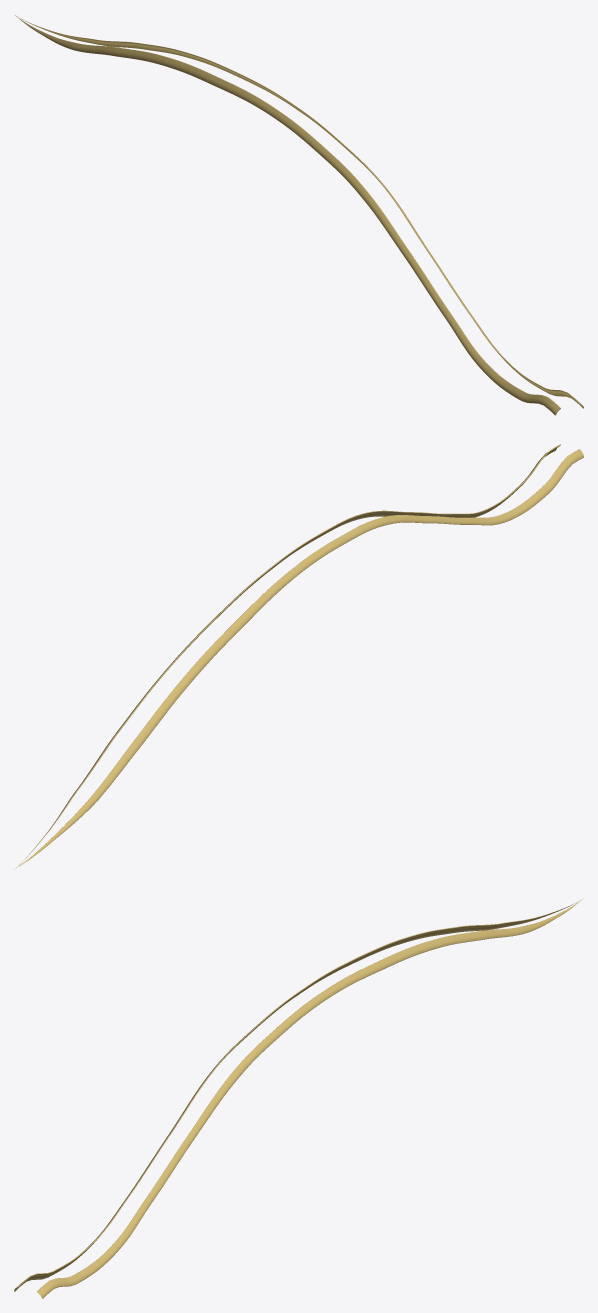
3 renders of one model, top to bottom at view 1: azimuth 30°, elevation 25°; view 2: azimuth 150°, elevation 25°; view 3: azimuth 330°, elevation 25°, orthographic.
Visible parts, largest first — view 1: 脊髓小脑后束; view 2: 脊髓小脑后束; view 3: 脊髓小脑后束.
Boxes of the visible parts, x1,y1,x2,y2 form: 脊髓小脑后束: (15, 15, 583, 415); 脊髓小脑后束: (14, 444, 583, 869); 脊髓小脑后束: (14, 898, 583, 1298).
Bounding box in the file's own units: 0.0216 × 0.0787 × 0.7223.
